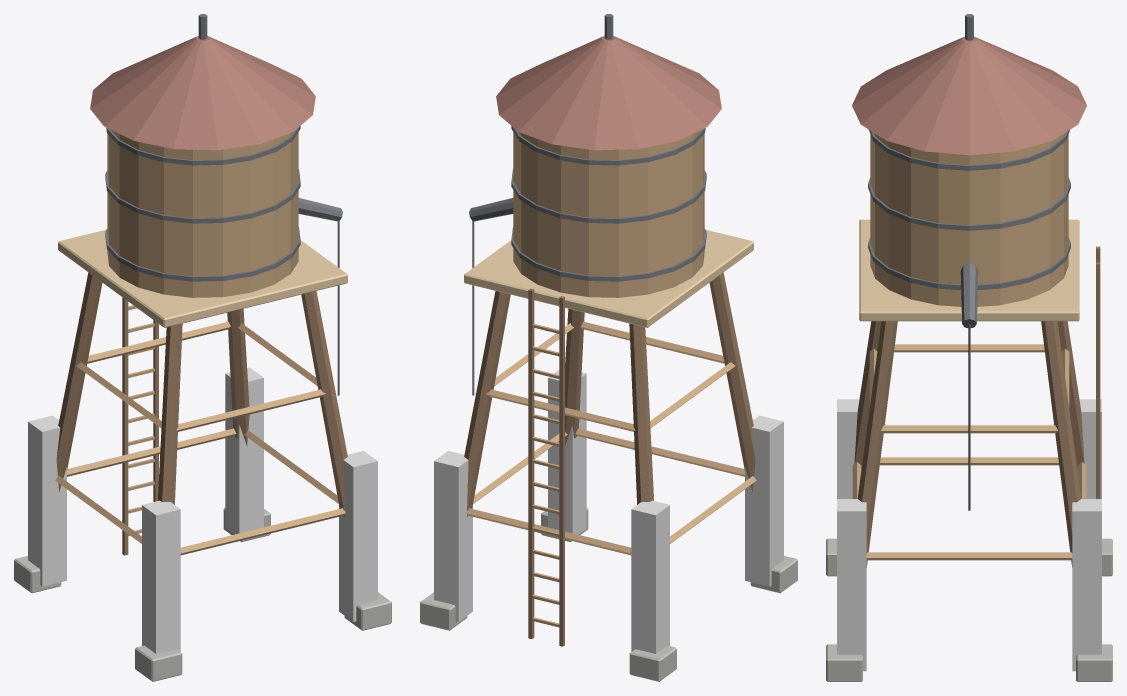
Rendered from WaterTower.fbx.
3 views of the same model, side by side, from view 1: azimuth 30°, elevation 25°; view 2: azimuth 150°, elevation 25°; view 3: azimuth 270°, elevation 25° (orthographic). The views are drawn at different scales.
Parts seen in each view (by area): view 1: WaterTower_Mesh, COL_Leg, COL_Leg.001, COL_Leg.003, COL_Leg.002; view 2: WaterTower_Mesh, COL_Leg.003, COL_Leg.002, COL_Leg, COL_Leg.001; view 3: WaterTower_Mesh, COL_Leg.001, COL_Leg.002, COL_Leg, COL_Leg.003.
Part boxes in pixels (x1,y1,x2,y2): WaterTower_Mesh: (14, 14, 391, 681); COL_Leg: (142, 500, 180, 653); COL_Leg.001: (339, 451, 377, 621); COL_Leg.003: (28, 415, 66, 586); COL_Leg.002: (225, 367, 263, 534); WaterTower_Mesh: (420, 14, 797, 681); COL_Leg.003: (631, 500, 669, 653); COL_Leg.002: (434, 451, 472, 621); COL_Leg: (745, 415, 783, 586); COL_Leg.001: (548, 370, 586, 534); WaterTower_Mesh: (826, 14, 1112, 681); COL_Leg.001: (837, 499, 866, 671); COL_Leg.002: (1072, 499, 1101, 671); COL_Leg: (837, 399, 859, 498); COL_Leg.003: (1079, 399, 1101, 498).
Size of the model in its own units: 4.19 by 9.1 by 3.9.
